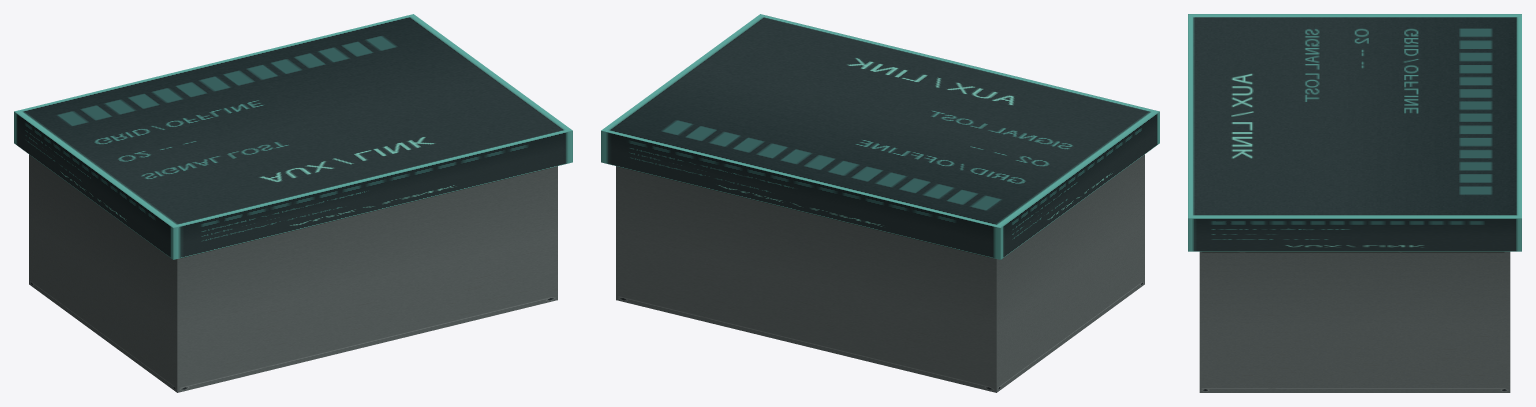
The model's file is hvac_unit_LOD3.obj.
3 renders of one model, left to right at view 1: azimuth 30°, elevation 25°; view 2: azimuth 150°, elevation 25°; view 3: azimuth 270°, elevation 25°, orthographic. The views are drawn at different scales.
Visible parts, largest first — view 1: L02_hvac_unit_LOD3; view 2: L02_hvac_unit_LOD3; view 3: L02_hvac_unit_LOD3.
Boxes of the visible parts, box(x1,y1,x2,y2) form: L02_hvac_unit_LOD3: box(14, 14, 572, 392); L02_hvac_unit_LOD3: box(601, 14, 1159, 392); L02_hvac_unit_LOD3: box(1188, 14, 1521, 392).
Bounding box in the file's own units: 2.1 × 0.86 × 1.45.
Materials: 1 (1 with a texture image).
